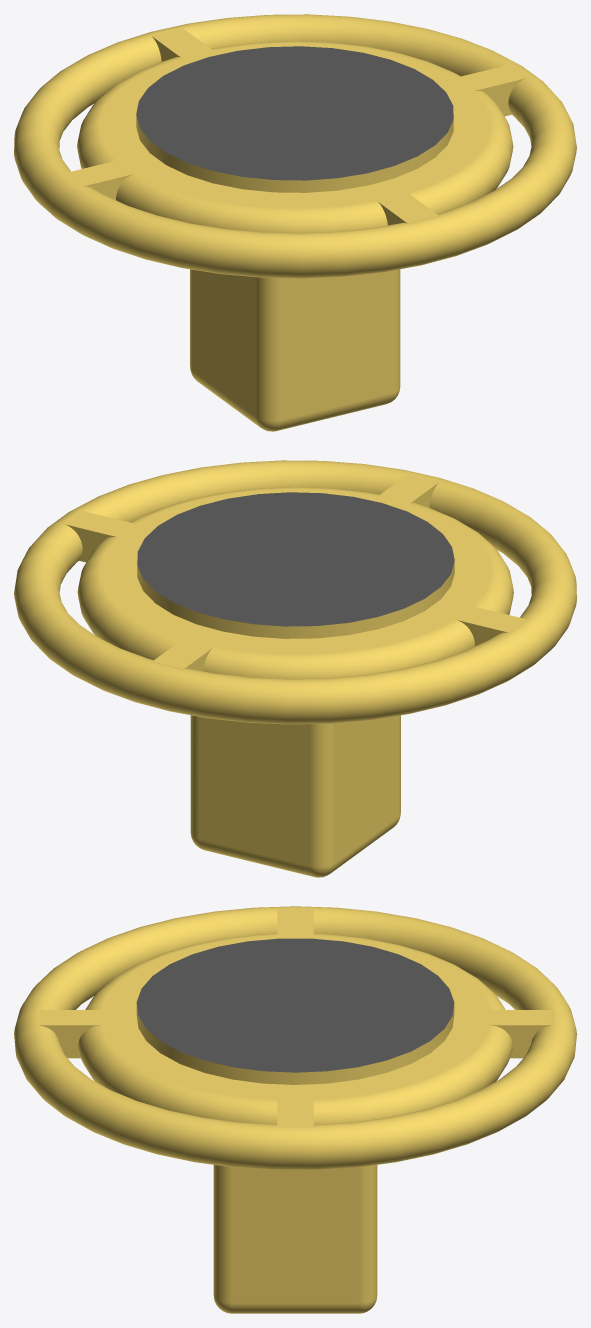
File: yellow_object.dae
3 views of the same model, one above another, from view 1: azimuth 30°, elevation 25°; view 2: azimuth 150°, elevation 25°; view 3: azimuth 270°, elevation 25° (orthographic).
Visible parts, largest first — view 1: objects_all v3; view 2: objects_all v3; view 3: objects_all v3.
Boxes of the visible parts, box(x1,y1,x2,y2) form: objects_all v3: box(14, 14, 576, 431); objects_all v3: box(14, 460, 576, 877); objects_all v3: box(14, 906, 576, 1313).
Bounding box in the file's own units: 0.0619 × 0.062 × 0.034.
